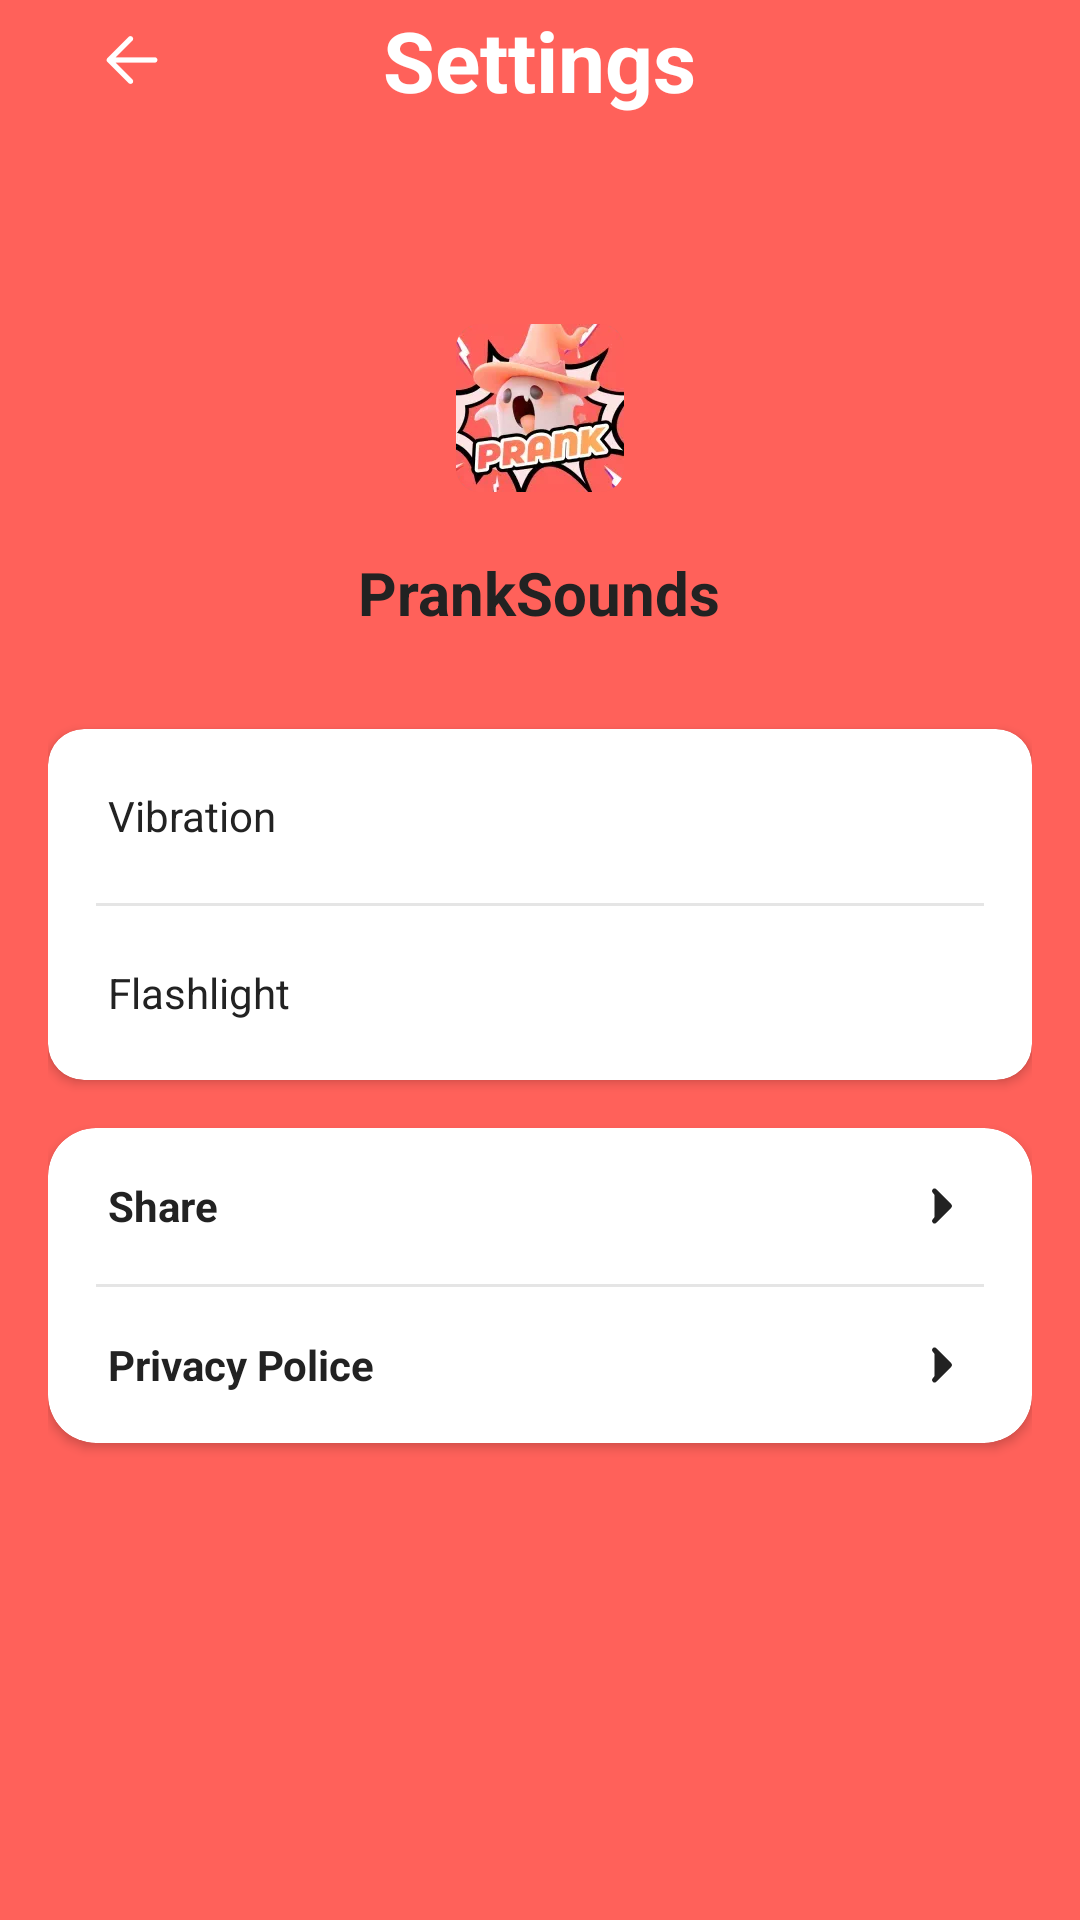

Icons on this 1080*1920 Android screen, each with the point to tap as (x,y):
arrow right: (942,1206), (942,1365)
back: (132,60)
